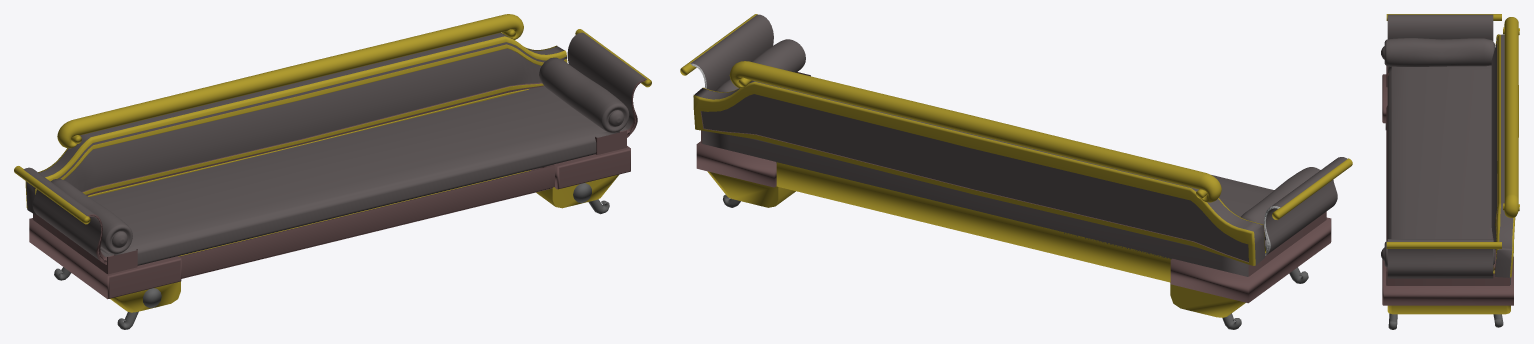
The model's file is O_Ancient_sofa.fbx.
The picture shows the model from 3 angles, left to right: view 1: azimuth 30°, elevation 25°; view 2: azimuth 150°, elevation 25°; view 3: azimuth 270°, elevation 25°; orthographic projection. The views are drawn at different scales.
Parts seen in each view (by area): view 1: O_Ancient_Sofa; view 2: O_Ancient_Sofa; view 3: O_Ancient_Sofa.
Part boxes in pixels (box(x1,y1,x2,y2)): O_Ancient_Sofa: box(14, 14, 651, 329); O_Ancient_Sofa: box(680, 14, 1352, 329); O_Ancient_Sofa: box(1381, 14, 1519, 329).
Size of the model in its own units: 676 by 173 by 172.
